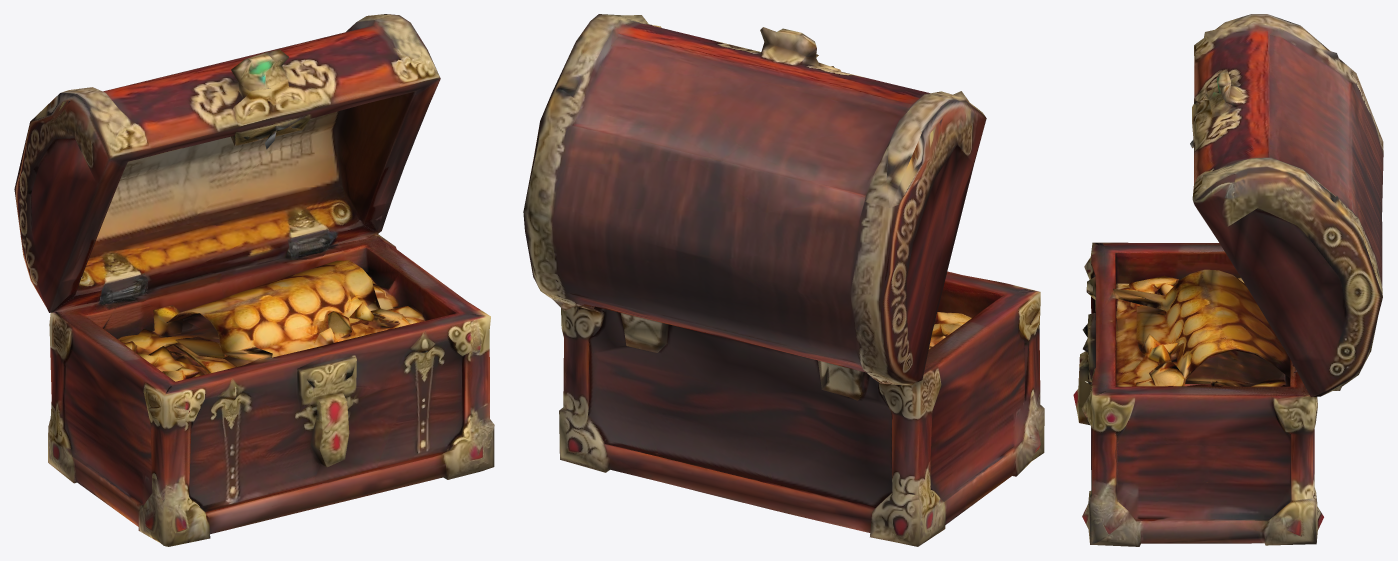
Rendered from openchest-web.glb.
The picture shows the model from 3 angles, left to right: view 1: azimuth 30°, elevation 25°; view 2: azimuth 150°, elevation 25°; view 3: azimuth 270°, elevation 25°; orthographic projection. The views are drawn at different scales.
Size of the model in its own units: 0.9737 by 1.09 by 0.7788.
Materials: 1 (1 with a texture image).
